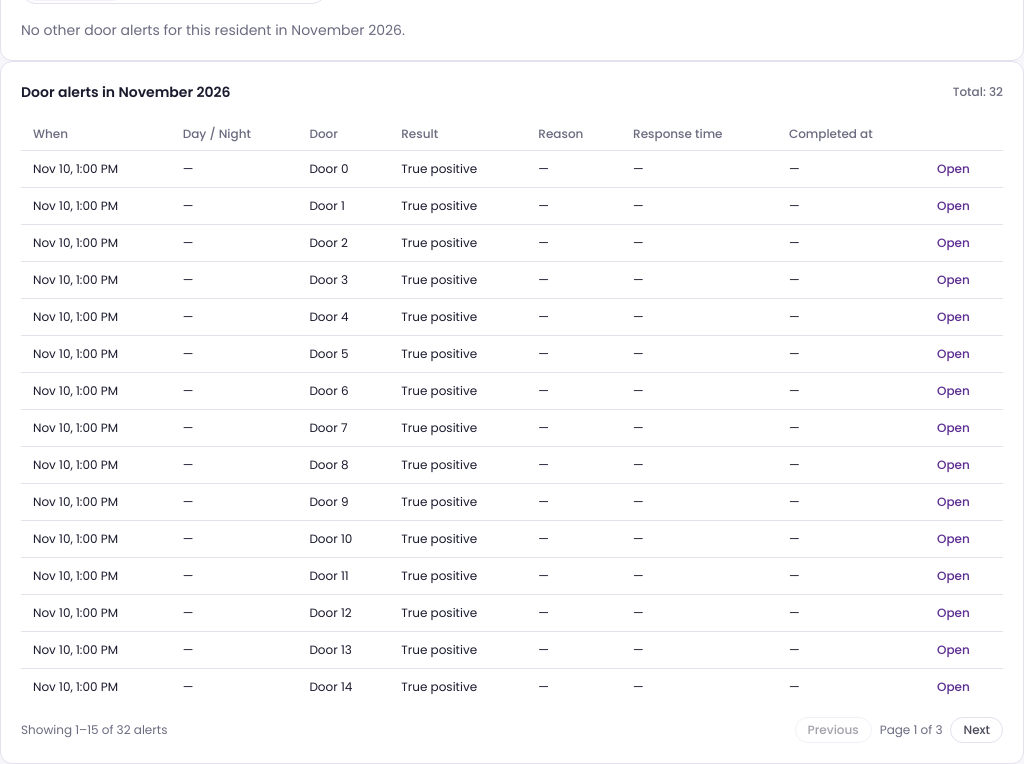
DoorSection: recent door alerts table › pages 15 at a time and disables Previous / Next at the ends
This screenshot has width=1024, height=764.
(page scrolled)
expect the text "Total: 32" is shown: met, box x1=953 y1=84 x2=1003 y2=100
expect the text "Showing 1–15 of 32 alerts" is shown: met, box x1=21 y1=722 x2=167 y2=738
Step 1. Click the button "Next" → (977, 730), box x1=950 y1=716 x2=1003 y2=742
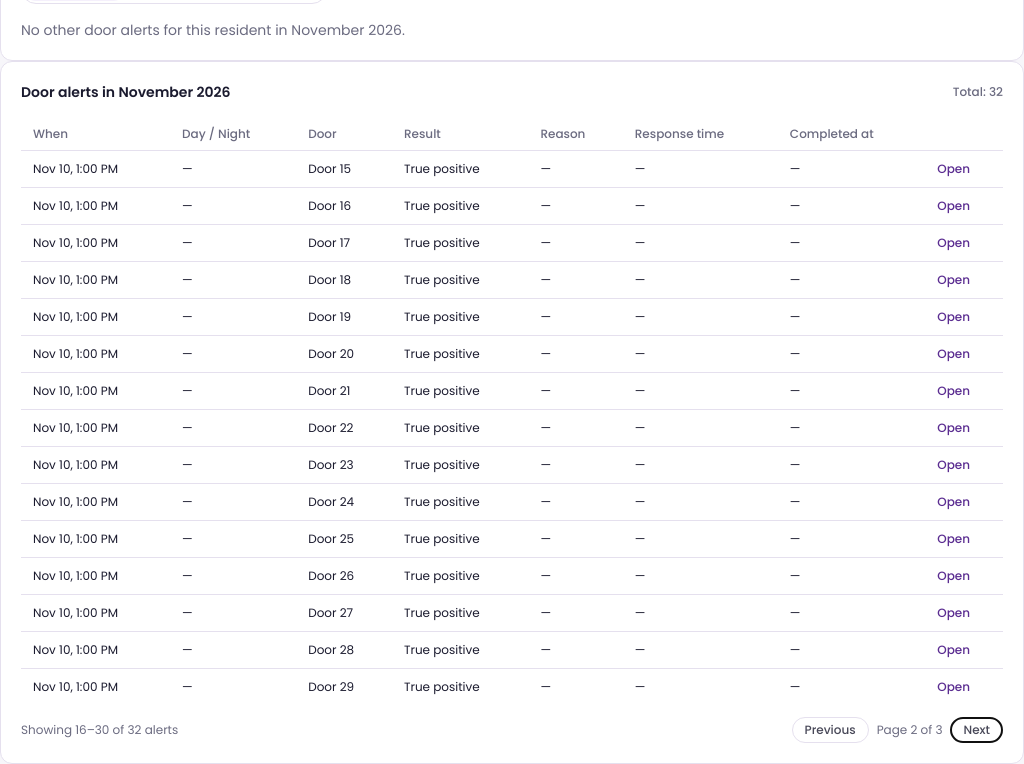
expect the text "Showing 16–30 of 32 alerts" is shown: met, box x1=21 y1=722 x2=178 y2=738
expect the text "Door 15" is shown: met, box x1=296 y1=150 x2=392 y2=187
expect the text "Door 0" is gone: met
Step 2. Click the button "Next" → (977, 730), box x1=950 y1=716 x2=1003 y2=742
(page scrolled)
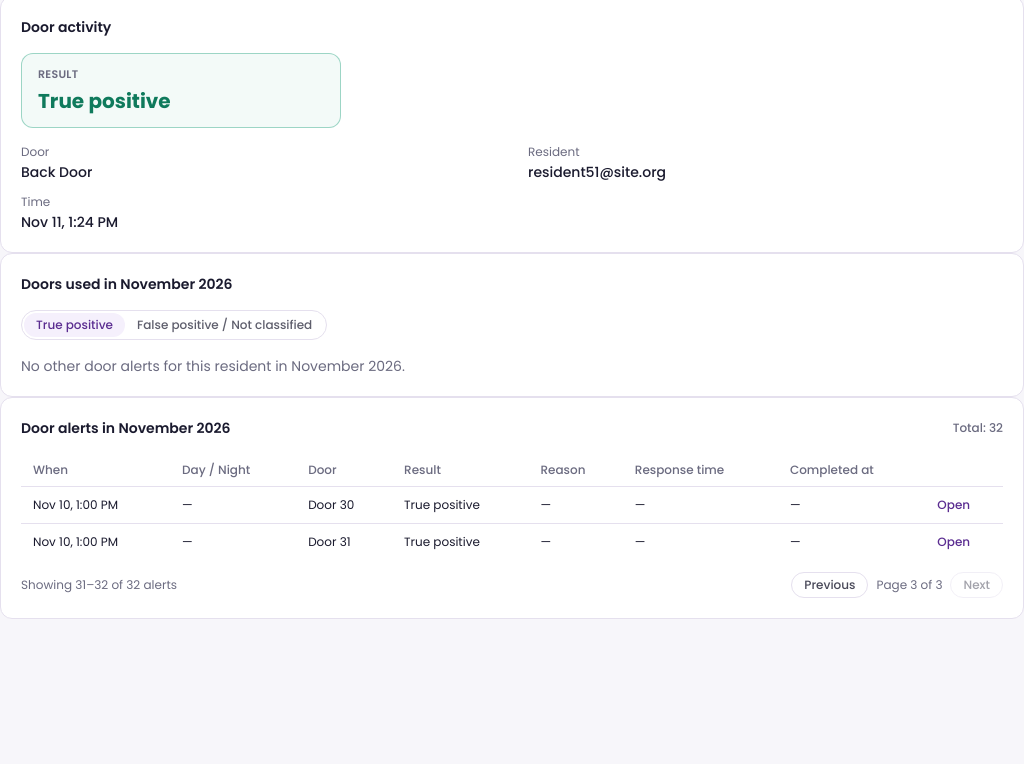
expect the number of rows is 3: met, box x1=21 y1=454 x2=1003 y2=486; x1=21 y1=486 x2=1003 y2=523; x1=21 y1=523 x2=1003 y2=560
expect the text "Showing 31–32 of 32 alerts" is shown: met, box x1=21 y1=576 x2=177 y2=592
expect the button "Next" is disabled: met, box x1=950 y1=572 x2=1003 y2=598
Step 3. Click the button "Previous" → (830, 584), box x1=791 y1=572 x2=868 y2=598
(page scrolled)
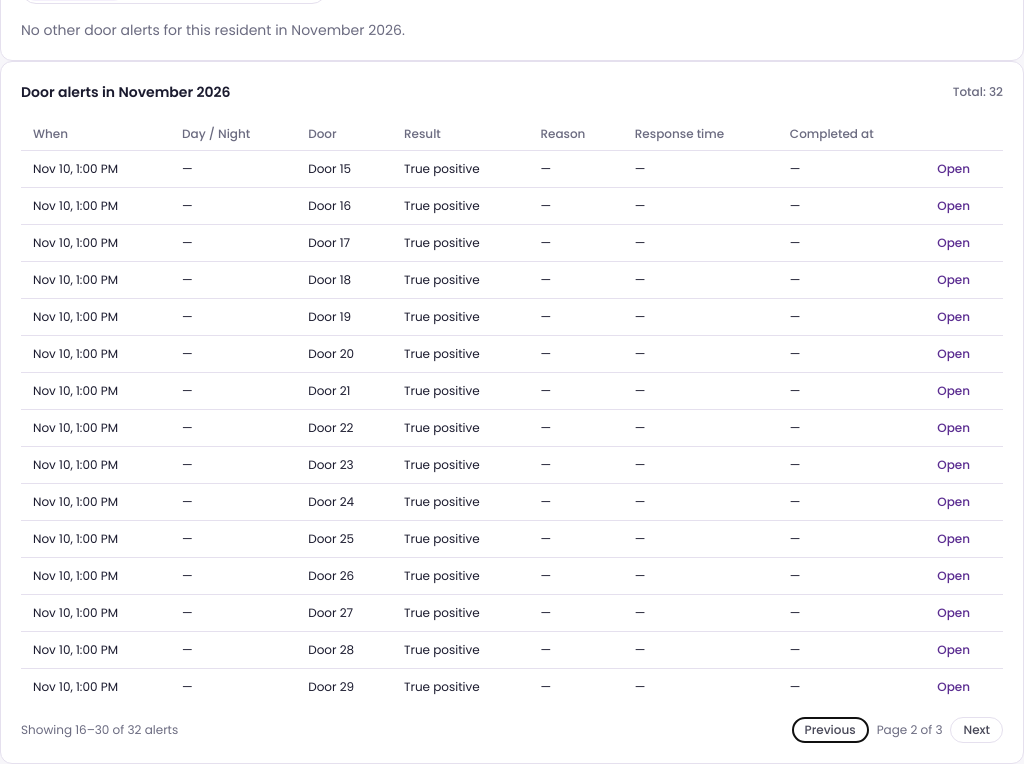
expect the text "Page 2 of 3" is shown: met, box x1=877 y1=722 x2=942 y2=738
